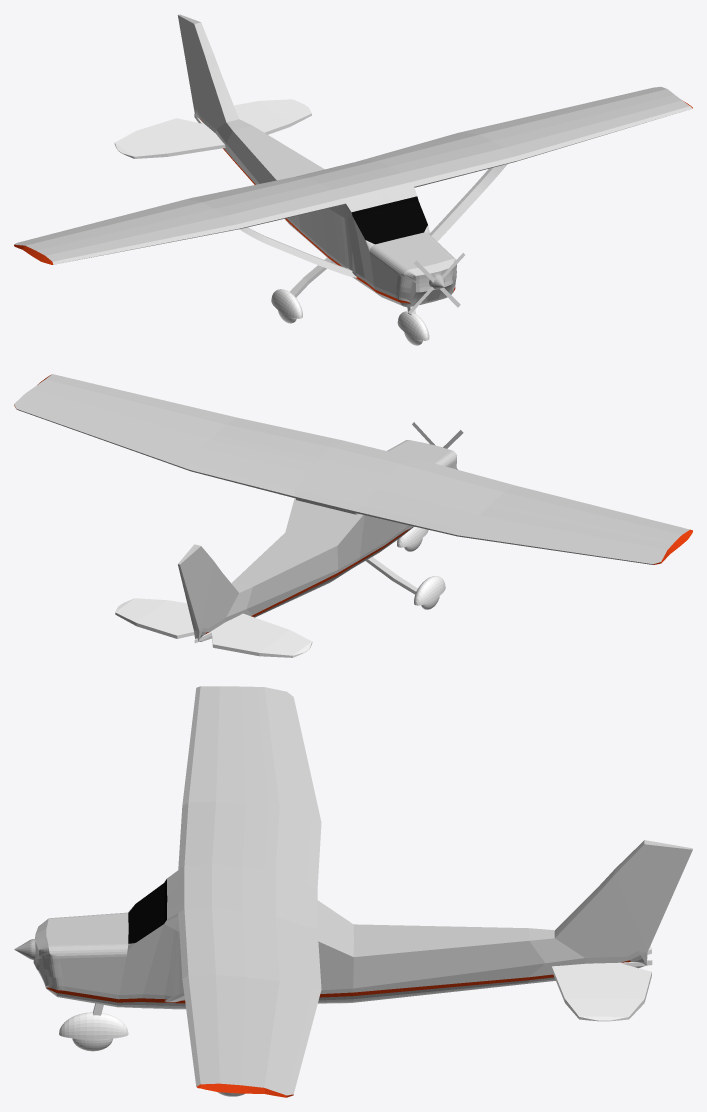
The model's file is trainer.glb.
The picture shows the model from 3 angles, top to bottom: view 1: azimuth 30°, elevation 25°; view 2: azimuth 150°, elevation 25°; view 3: azimuth 270°, elevation 25°; orthographic projection. The views are drawn at different scales.
Visible parts, largest first — view 1: Fuselage (×4); view 2: Fuselage (×3); view 3: Fuselage (×4).
Boxes of the visible parts, x1=… form: Fuselage (×4): x1=14, y1=14, x2=692, y2=345; Fuselage (×3): x1=14, y1=374, x2=692, y2=657; Fuselage (×4): x1=33, y1=686, x2=692, y2=1097.
Size of the model in its own units: 10.27 by 2.48 by 7.3.
